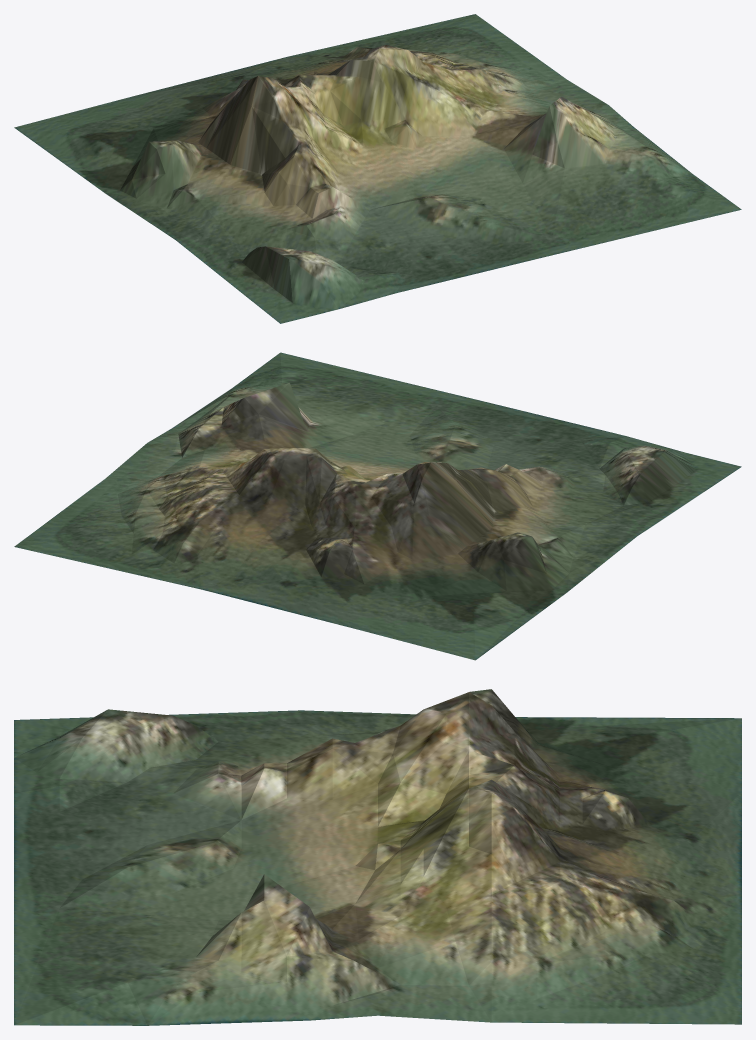
File: F_Island_01_B.fbx
3 views of the same model, one above another, from view 1: azimuth 30°, elevation 25°; view 2: azimuth 150°, elevation 25°; view 3: azimuth 270°, elevation 25° (orthographic). The views are drawn at different scales.
Parts seen in each view (by area): view 1: F_Island_01_B; view 2: F_Island_01_B; view 3: F_Island_01_B.
Boxes of the visible parts, <box> form: F_Island_01_B: <box>14,14,741,323</box>; F_Island_01_B: <box>14,352,741,660</box>; F_Island_01_B: <box>14,689,741,1025</box>.
Bounding box in the file's own units: 2 × 0.3763 × 2.
Materials: 1 (1 with a texture image).
